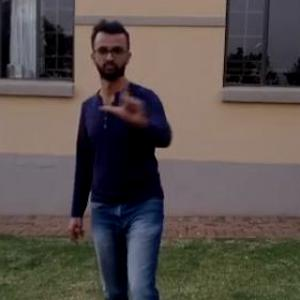land_hand: (96, 70, 154, 132)
